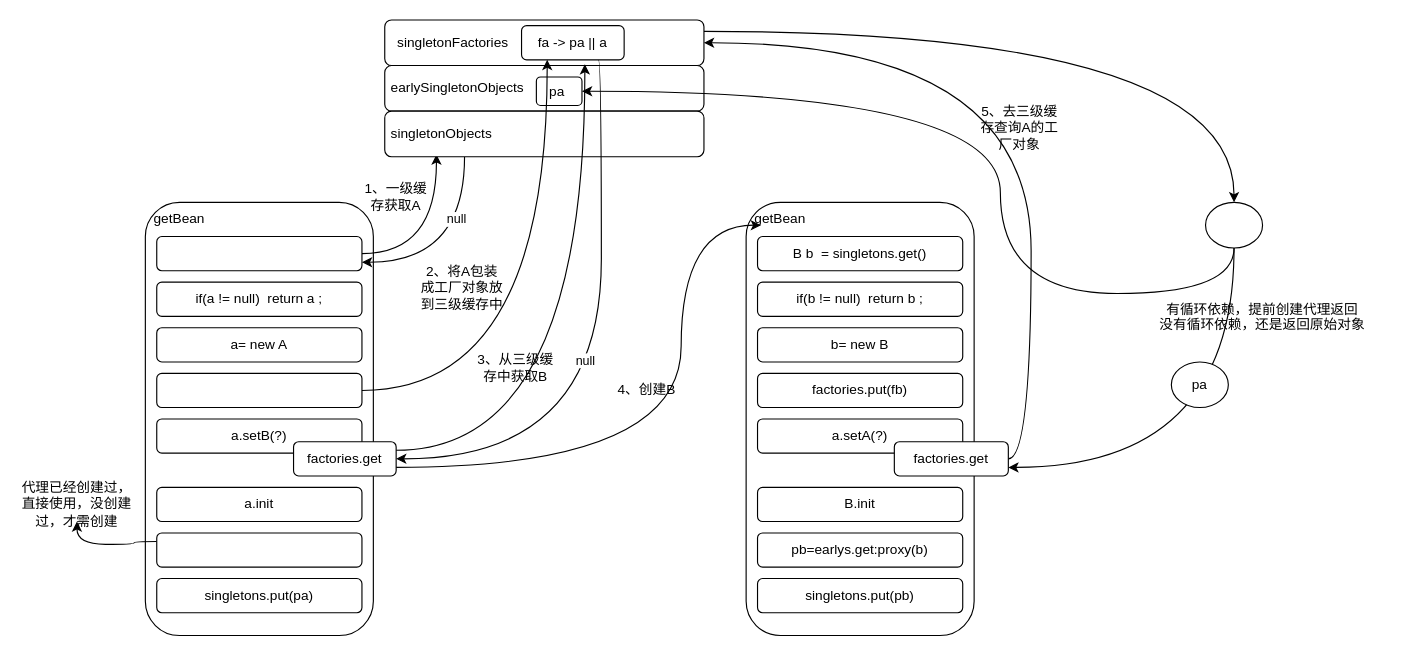
Image size: 1418x656. Some labels were removed from this diagram. The shapes that lost their labels are listed below. From the top down, each one's centre as x and y in pixels, then its label:
At pixel 1233 224: "fa".
At pixel 259 253: "A a = singletons.get()".
At pixel 259 390: "factories.put(fa)".
At pixel 259 549: "pa=earlys.get:proxy(a)".
